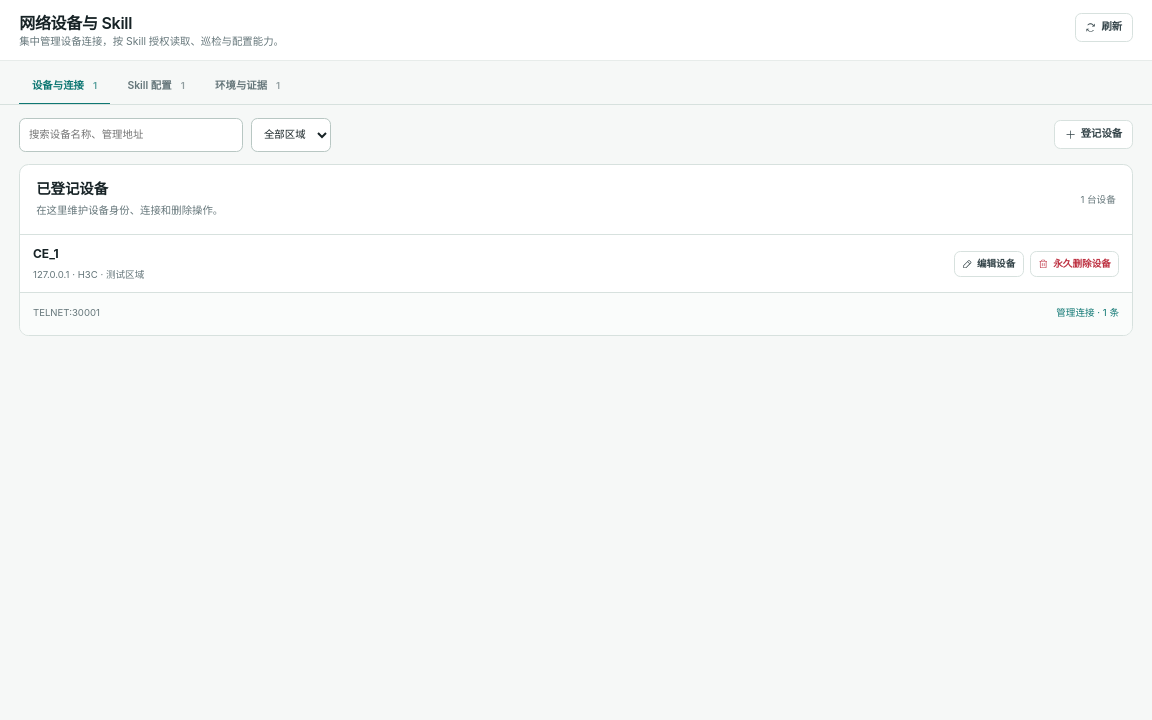
Test case: published Skill has device configuration capability by default
Expected: the element with test id "device-card-d1" is shown, x1=20 y1=235 x2=1132 y2=335
Click the button "Skill 配置 1". click: click(156, 87)
box: x1=115 y1=70 x2=198 y2=104
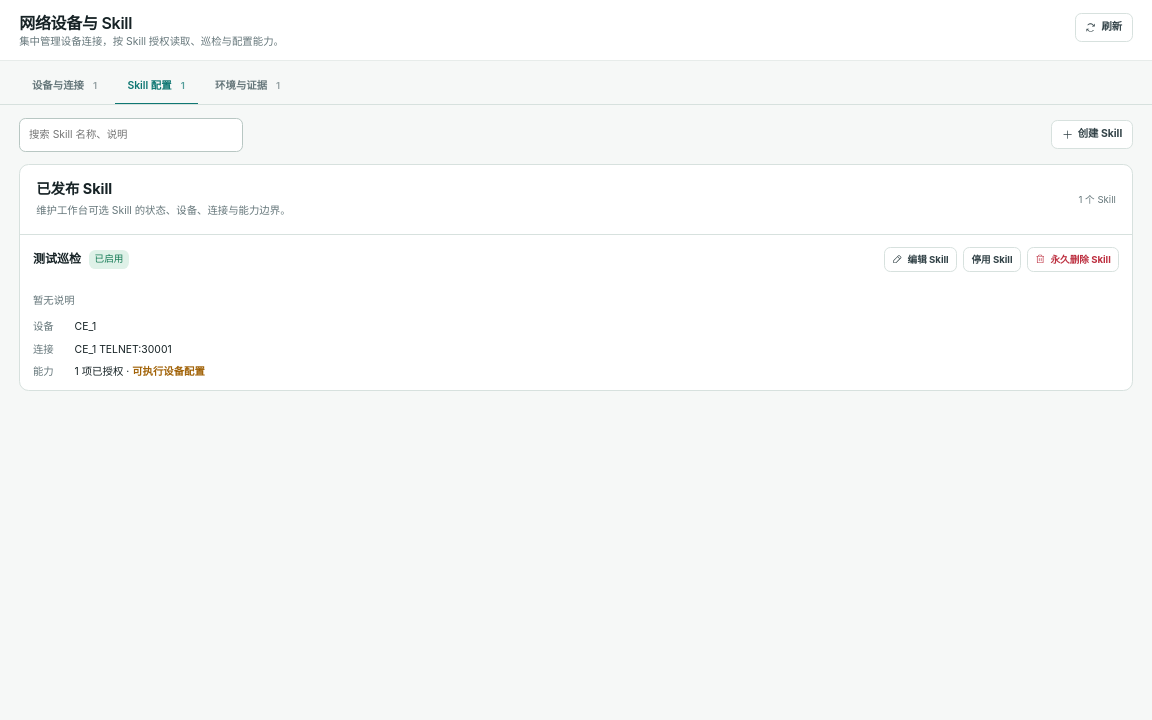
Result: the text "可执行设备配置" is shown at x1=132 y1=365 x2=205 y2=378
Click the button "编辑 Skill". click: click(921, 259)
box: x1=884 y1=247 x2=957 y2=272
(page scrolled)
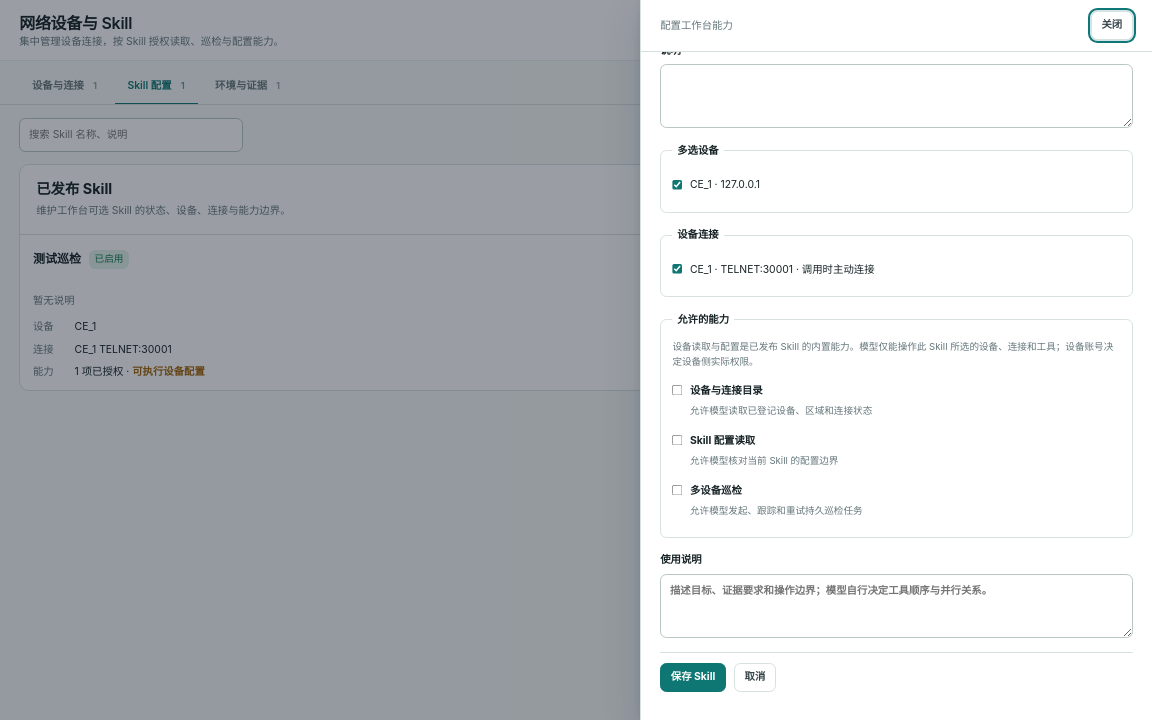
Click the button "保存 Skill". click: click(693, 677)
box: x1=660 y1=663 x2=726 y2=692
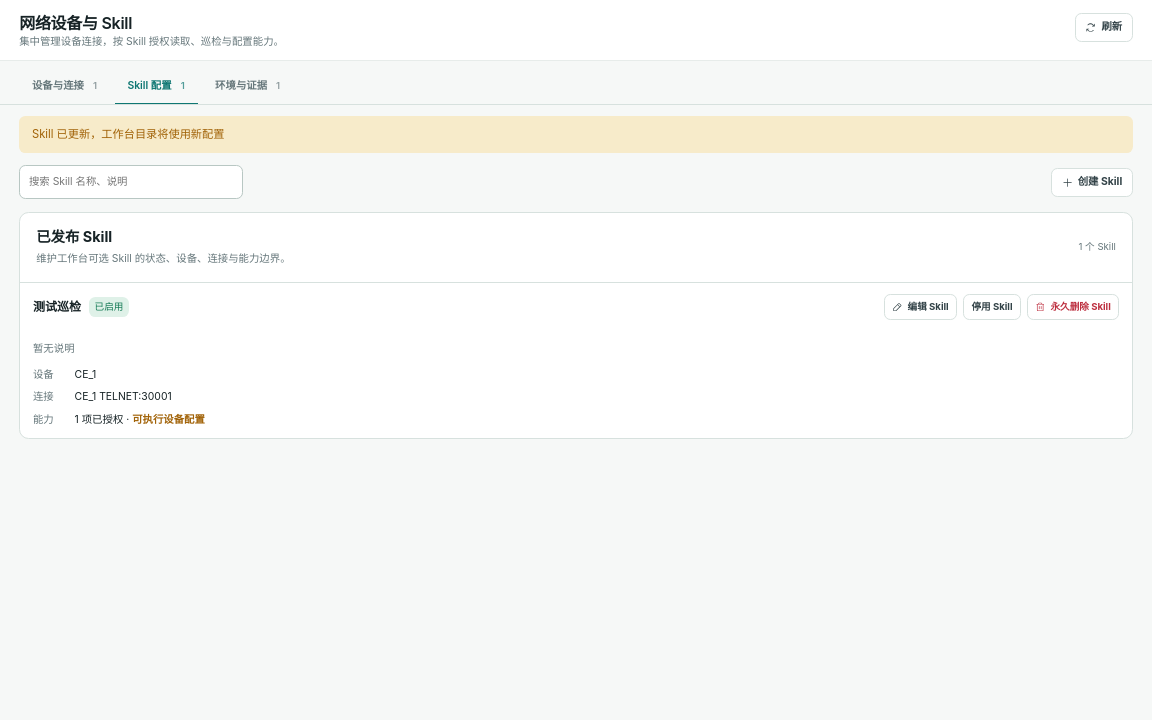
Result: the dialog is gone
